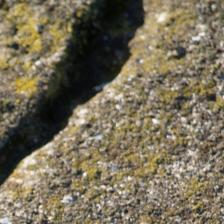Crack: (3, 3, 166, 188)
